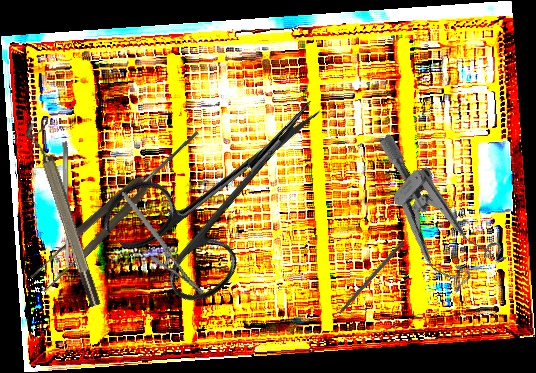Fixation Ring: (23, 118, 104, 311)
Hook Surgical: (327, 239, 405, 326)
Iris Scissors: (94, 53, 362, 318)
Needle Holder: (121, 177, 205, 309)
Spatula Surgical: (61, 141, 71, 268)
Speculum: (339, 133, 518, 302)
Tissue Forceps: (27, 122, 209, 295)
